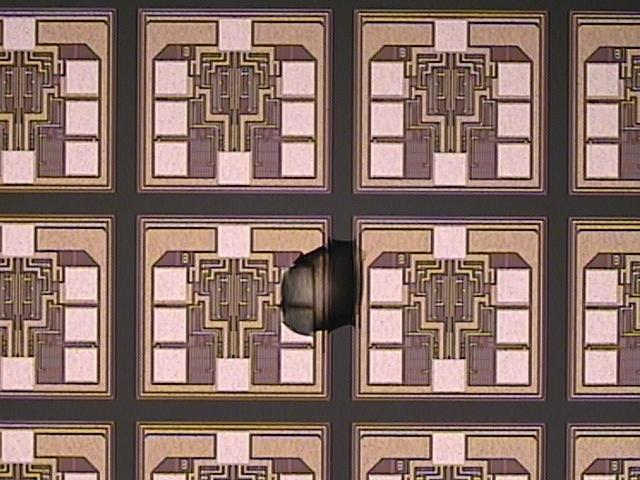PO CONTAMINATION: (269, 236, 383, 351)
